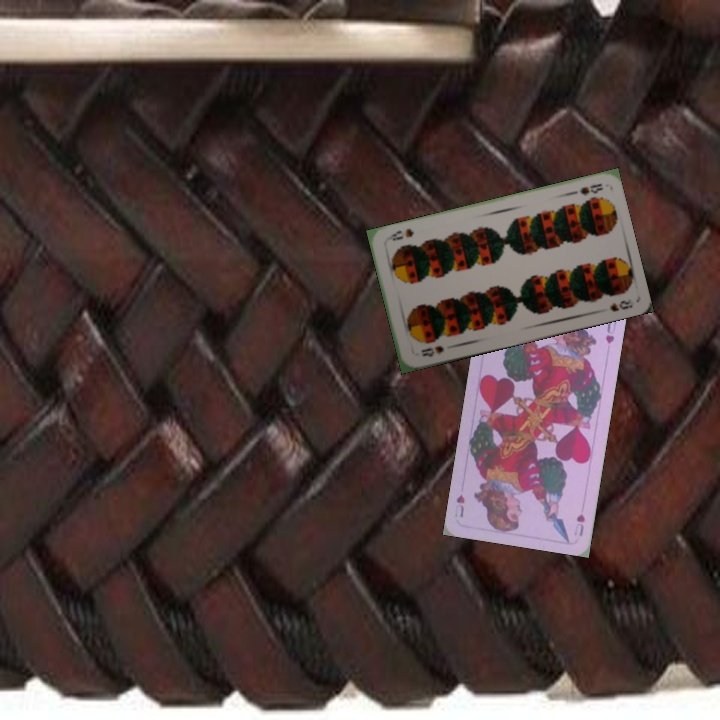HU: (570, 510, 588, 539)
S8: (566, 179, 605, 198), (417, 341, 446, 360)
